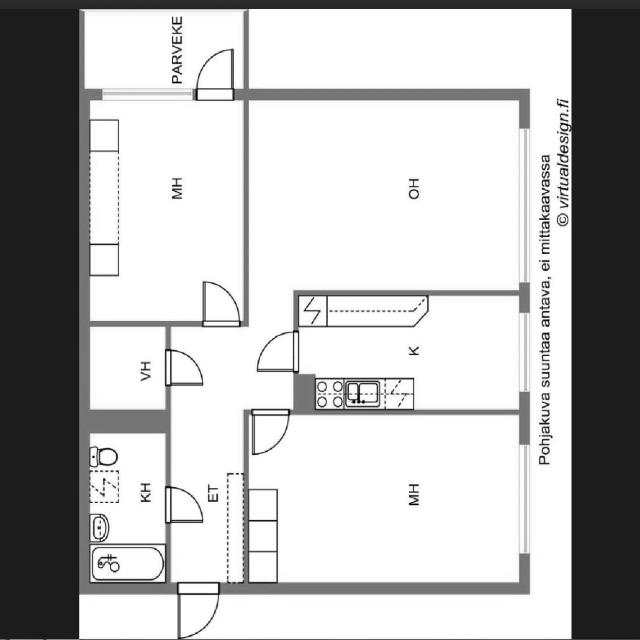door: (86, 421, 171, 588), (188, 273, 246, 334), (172, 578, 224, 640), (190, 42, 238, 104), (250, 325, 306, 377), (244, 403, 294, 458), (158, 481, 215, 528), (158, 342, 212, 391)
window: (506, 118, 540, 287), (512, 438, 538, 560), (513, 303, 538, 400), (94, 81, 198, 103), (517, 200, 536, 290)
zone: (248, 90, 522, 283), (256, 408, 526, 590), (83, 93, 252, 324), (296, 292, 524, 410), (85, 324, 172, 420), (156, 481, 215, 528)
